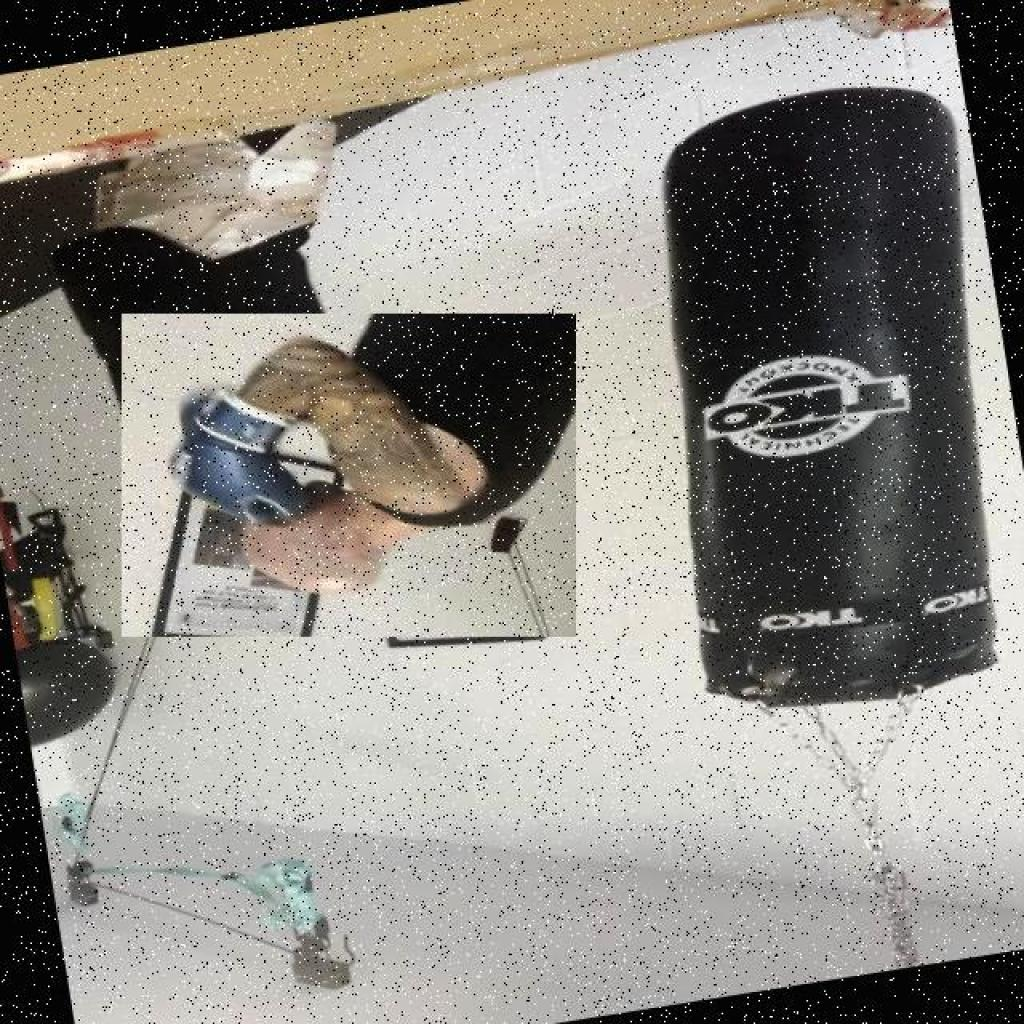bag: (595, 70, 1024, 730)
no punch: (122, 314, 575, 636)
